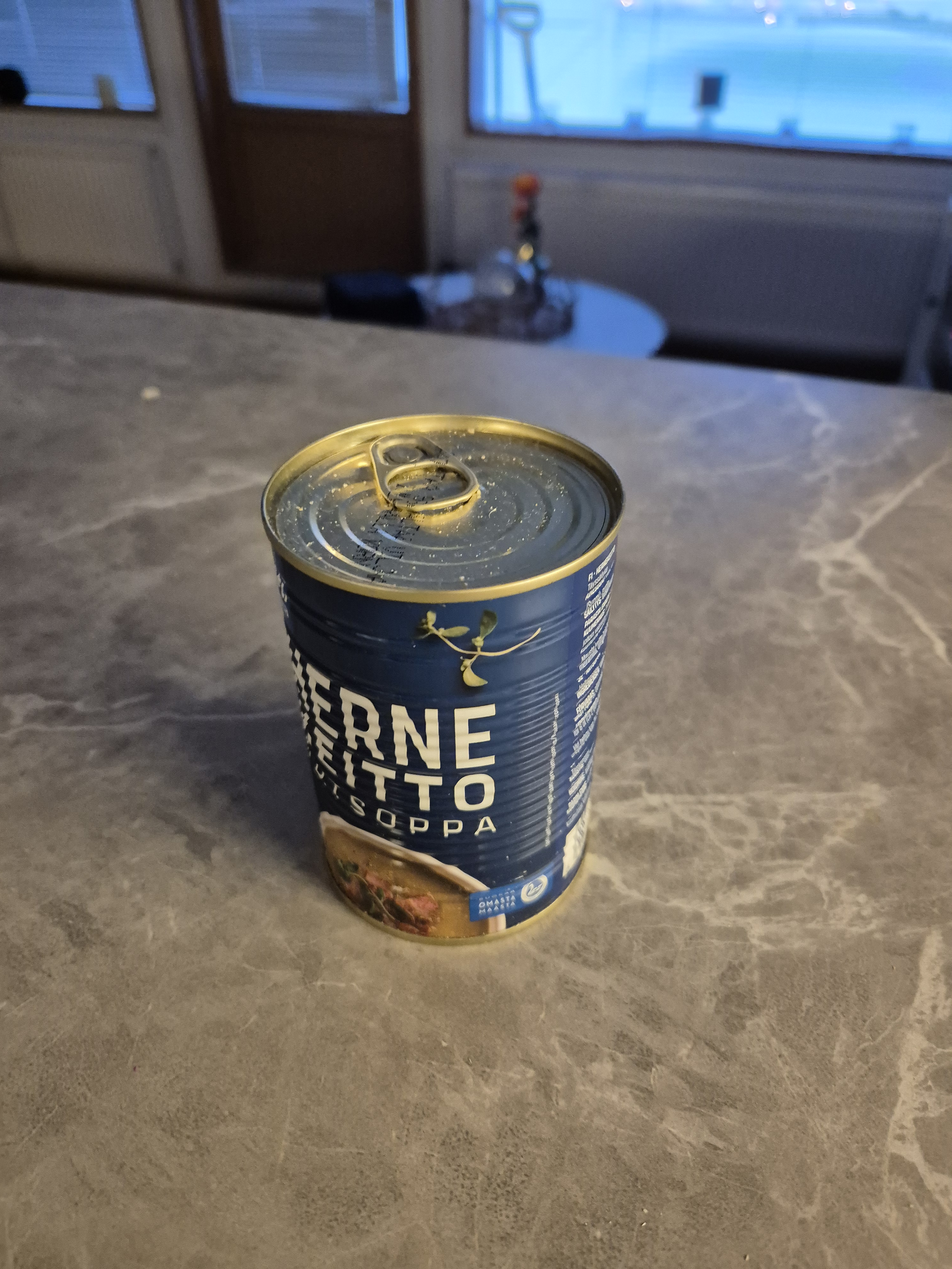Konservburk: (259, 412, 627, 949)
